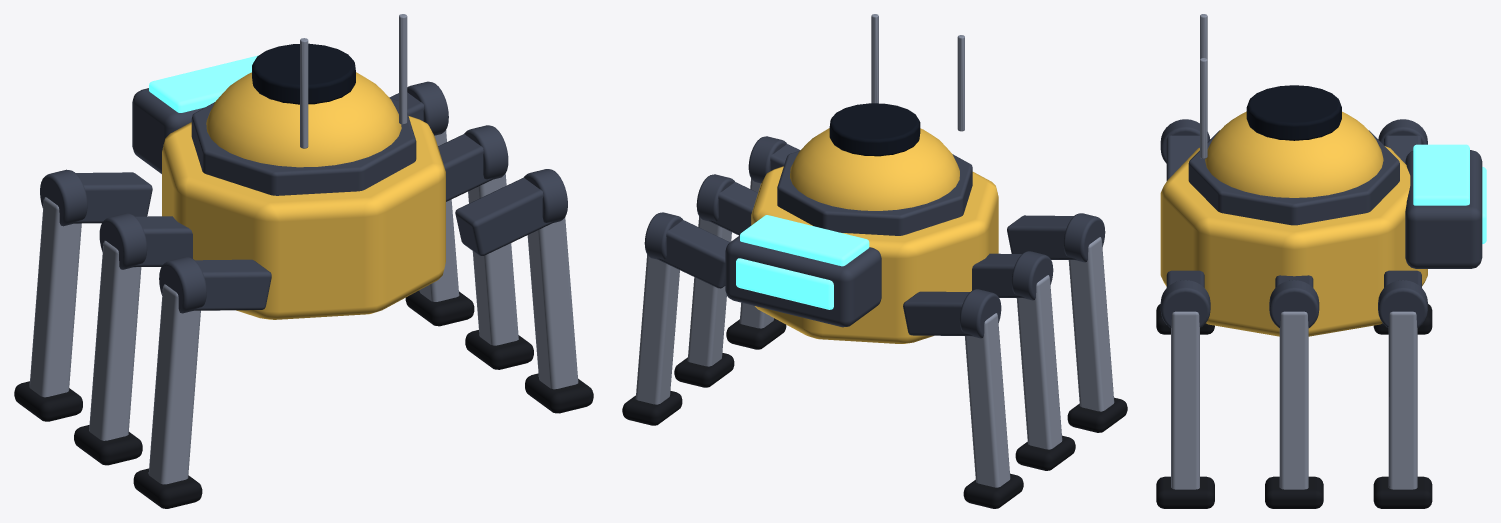
Rendered from robot-1.glb.
3 views of the same model, side by side, from view 1: azimuth 30°, elevation 25°; view 2: azimuth 150°, elevation 25°; view 3: azimuth 270°, elevation 25° (orthographic). The views are drawn at different scales.
Visible parts, largest first — view 1: pod, cap, collar, shin, shin.002, shin.001, shin.005, sensor_ring, thigh.005, shin.004, thigh.002, visor_top (+19 smaller); view 2: pod, cap, visor_housing, collar, shin, shin.002, shin.001, shin.003, sensor_ring, visor_top, shin.004, thigh.003 (+20 smaller); view 3: pod, cap, collar, visor_housing, shin.004, shin.003, shin.005, sensor_ring, visor_top, joint.004, joint.005, joint.003 (+13 smaller).
Boxes of the visible parts, x1,y1,x2,y2 form: pod: (162, 116, 445, 319); cap: (206, 72, 401, 167); collar: (191, 98, 416, 195); shin: (29, 197, 81, 397); shin.002: (148, 284, 200, 484); shin.001: (89, 240, 141, 440); shin.005: (527, 217, 578, 389); sensor_ring: (252, 43, 355, 104); thigh.005: (455, 177, 553, 255); shin.004: (468, 174, 518, 345); thigh.002: (192, 259, 271, 310); visor_top: (149, 55, 258, 112); pod: (751, 166, 998, 343); cap: (790, 128, 959, 210); visor_housing: (725, 235, 881, 327); collar: (777, 151, 972, 235); shin: (965, 313, 1010, 487); shin.002: (1068, 237, 1114, 411); shin.001: (1016, 275, 1062, 449); shin.003: (635, 254, 679, 404); sensor_ring: (829, 103, 920, 156); visor_top: (740, 215, 869, 266); shin.004: (687, 216, 731, 366); thigh.003: (657, 220, 729, 288); pod: (1160, 146, 1427, 336); cap: (1205, 111, 1383, 197); collar: (1188, 130, 1399, 225); visor_housing: (1405, 150, 1482, 268); shin.004: (1279, 311, 1308, 489); shin.003: (1388, 311, 1417, 489); shin.005: (1171, 311, 1199, 489); sensor_ring: (1246, 85, 1341, 140); visor_top: (1413, 144, 1469, 205); joint.004: (1269, 280, 1319, 327); joint.005: (1160, 280, 1210, 327); joint.003: (1378, 280, 1427, 327).
Bounding box in the file's own units: 1.01 × 0.9205 × 0.73.
